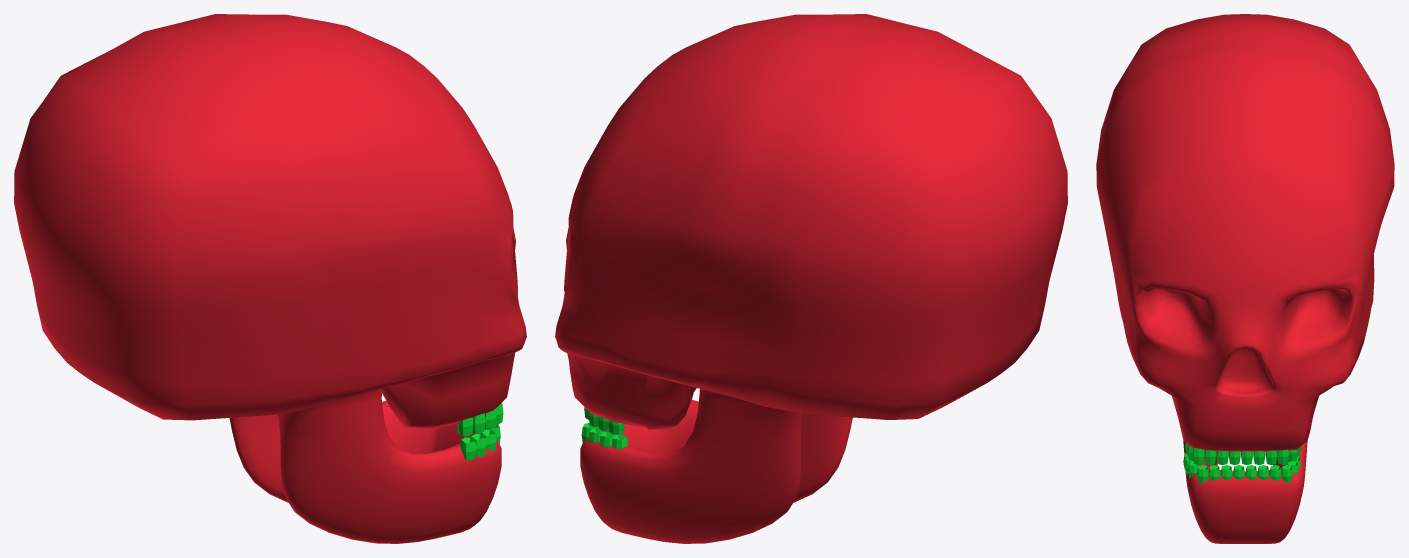
Rendered from czaszka 1.fbx.
3 renders of one model, left to right at view 1: azimuth 30°, elevation 25°; view 2: azimuth 150°, elevation 25°; view 3: azimuth 270°, elevation 25°, orthographic. The views are drawn at different scales.
Parts seen in each view (by area): view 1: czaszka; view 2: czaszka; view 3: czaszka.
Boxes of the visible parts, x1=… form: czaszka: x1=14, y1=14, x2=526, y2=543; czaszka: x1=555, y1=14, x2=1067, y2=543; czaszka: x1=1096, y1=14, x2=1394, y2=543.
Size of the model in its own units: 200 by 219 by 140.
